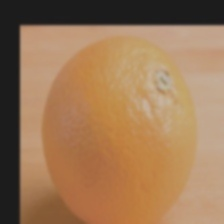orange: (28, 43, 216, 178)
